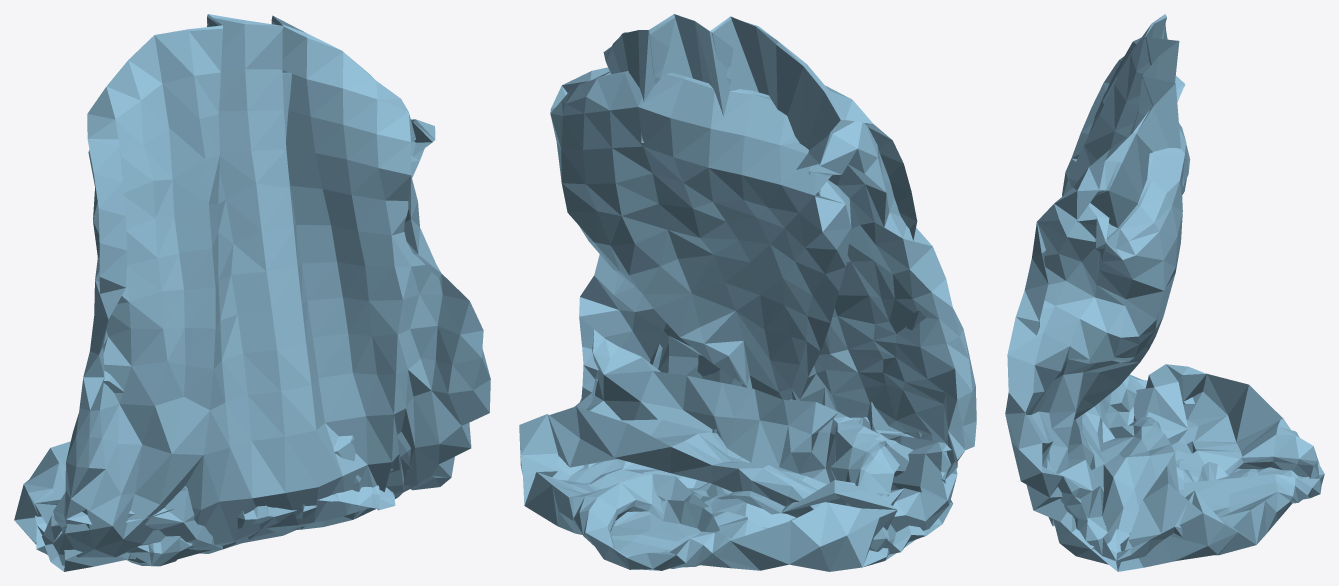
File: frame_14.glb
The picture shows the model from 3 angles, left to right: view 1: azimuth 30°, elevation 25°; view 2: azimuth 150°, elevation 25°; view 3: azimuth 270°, elevation 25°; orthographic projection. The views are drawn at different scales.
Visible parts, largest first — view 1: frame_14.obj; view 2: frame_14.obj; view 3: frame_14.obj.
Boxes of the visible parts, x1=… form: frame_14.obj: x1=14, y1=14, x2=490, y2=571; frame_14.obj: x1=519, y1=14, x2=976, y2=571; frame_14.obj: x1=1005, y1=14, x2=1324, y2=571.
Bounding box in the file's own units: 1.03 × 1.22 × 0.7623.
